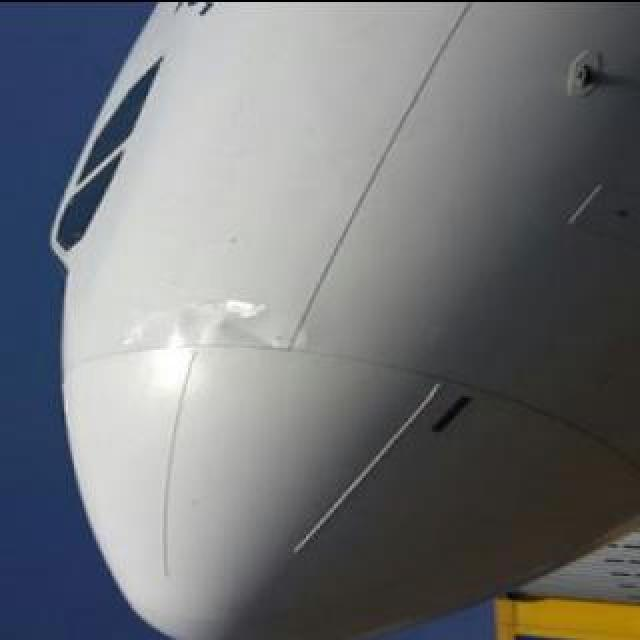dent: (123, 289, 323, 363)
